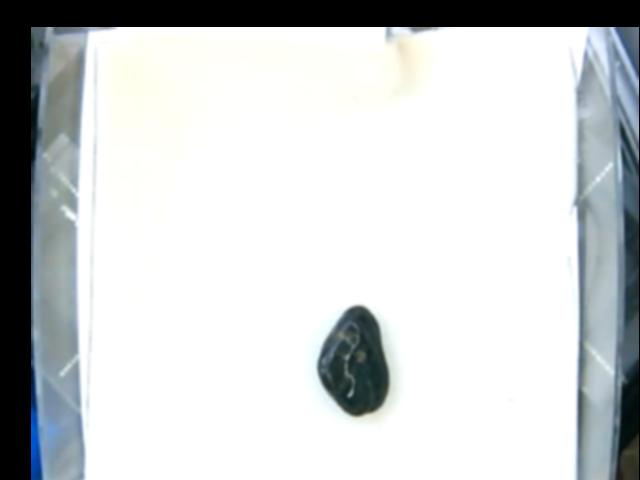Pebble: (318, 304, 390, 417)
